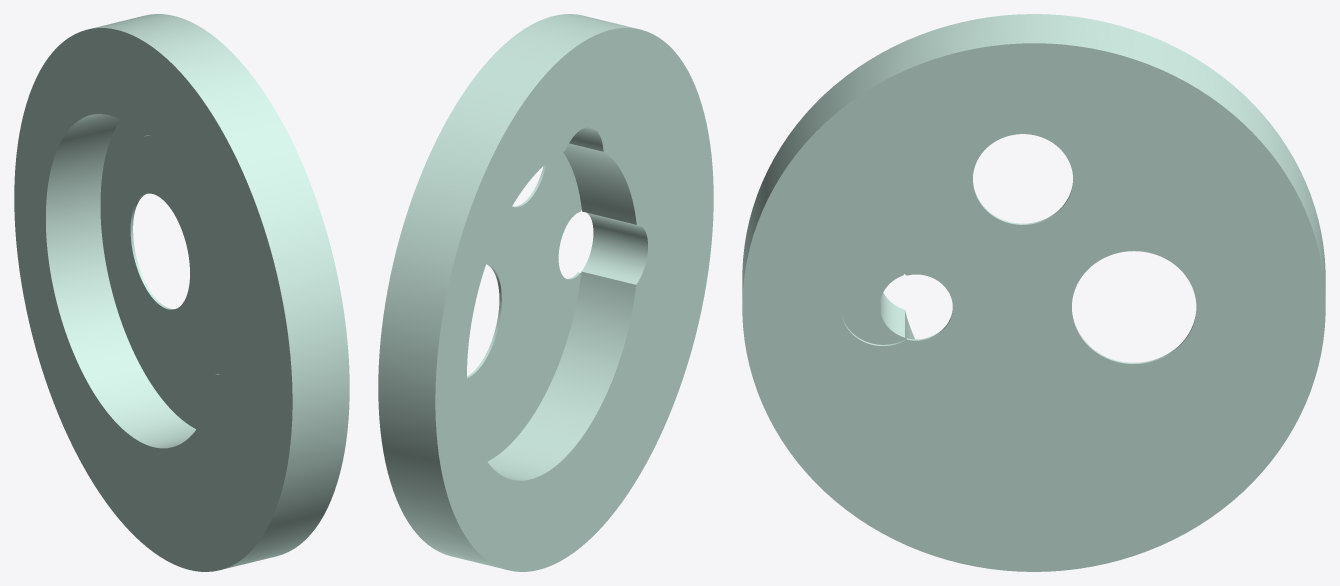
3 views of the same model, side by side, from view 1: azimuth 30°, elevation 25°; view 2: azimuth 150°, elevation 25°; view 3: azimuth 270°, elevation 25° (orthographic). The views are drawn at different scales.
Parts seen in each view (by area): view 1: Renderer Node; view 2: Renderer Node; view 3: Renderer Node.
Part boxes in pixels (x1,y1,x2,y2): Renderer Node: (14,14,349,571); Renderer Node: (378,14,713,571); Renderer Node: (742,14,1325,571).
Size of the model in its own units: 0.1797 by 1.52 by 1.52.
